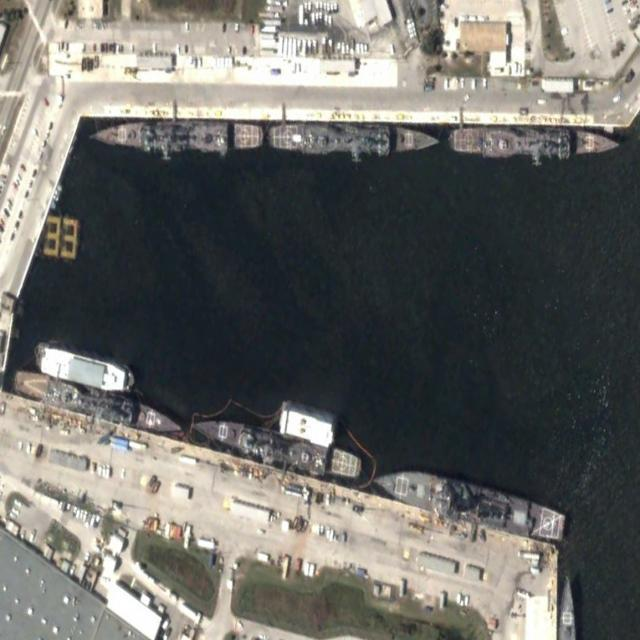Destroyer: (370, 461, 566, 545)
Frigate: (187, 411, 363, 483), (12, 368, 185, 438), (268, 120, 439, 158), (447, 124, 620, 159), (92, 118, 263, 151)
Other Ship: (32, 340, 136, 395)
